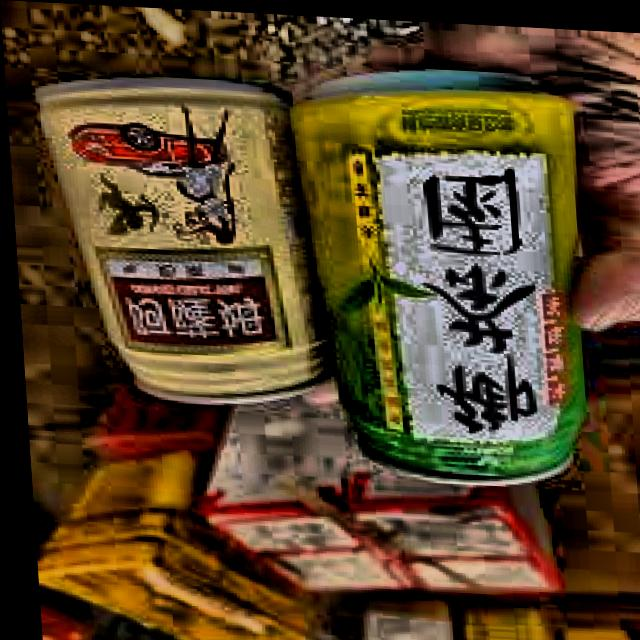can: (275, 40, 607, 491), (25, 61, 339, 411)
